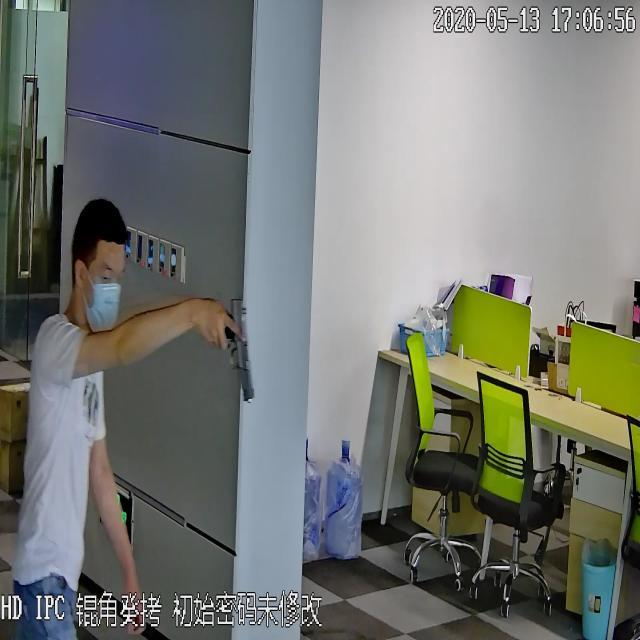gun: (209, 294, 253, 403)
